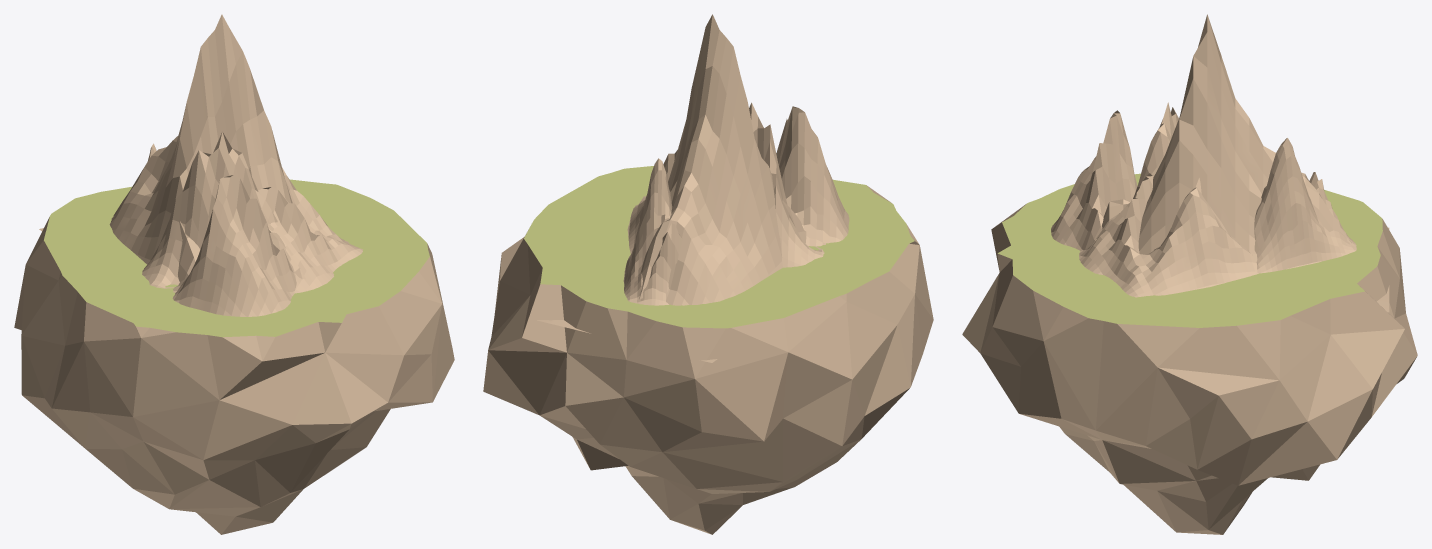
File: low poly mountain.c4d.fbx
3 renders of one model, left to right at view 1: azimuth 30°, elevation 25°; view 2: azimuth 150°, elevation 25°; view 3: azimuth 270°, elevation 25°, orthographic.
Visible parts, largest first — view 1: Sphere, Cube, Landscape_2, Landscape_4, Landscape_3; view 2: Sphere, Cube, Landscape_4, Landscape_2, Landscape_1, Landscape_3; view 3: Sphere, Cube, Landscape_4, Landscape_3, Landscape_1, Landscape_2.
Part boxes in pixels (x1,y1,x2,y2): Sphere: (14,217,454,534); Cube: (44,179,429,337); Landscape_2: (142,131,296,316); Landscape_4: (39,14,305,281); Landscape_3: (258,167,362,293); Sphere: (483,185,933,534); Cube: (524,166,914,328); Landscape_4: (537,14,806,362); Landscape_2: (749,102,849,267); Landscape_1: (623,158,682,305); Landscape_3: (627,150,677,253); Sphere: (962,204,1417,534); Cube: (998,173,1382,327); Landscape_4: (1089,14,1389,312); Landscape_3: (1079,173,1258,297); Landscape_1: (1254,138,1356,273); Landscape_2: (1051,102,1178,250).
Bounding box in the file's own units: 15262 × 19509 × 15603.
